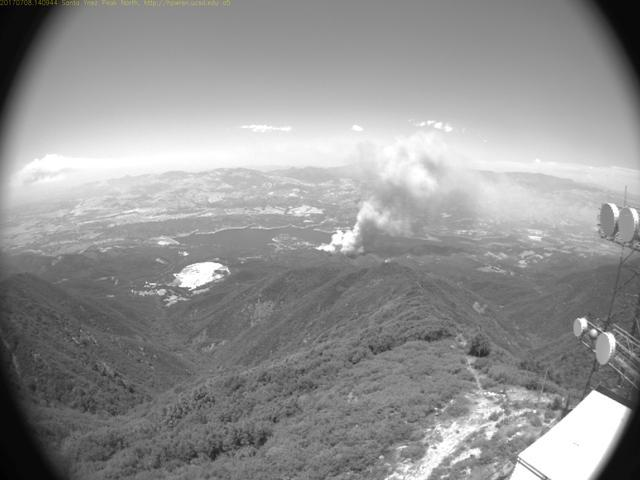smoke: (313, 115, 561, 260)
